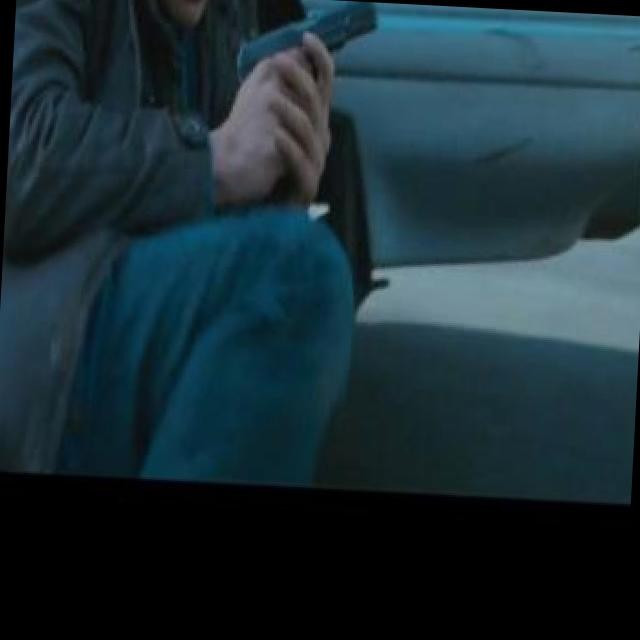Guns: (227, 0, 380, 107)
